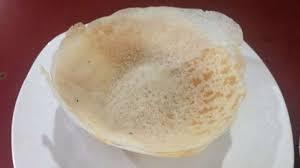Hoppers: (47, 6, 251, 155)
